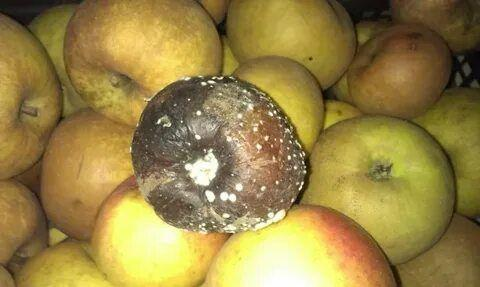Apple: (132, 75, 307, 235), (314, 114, 458, 265), (3, 14, 63, 176)
